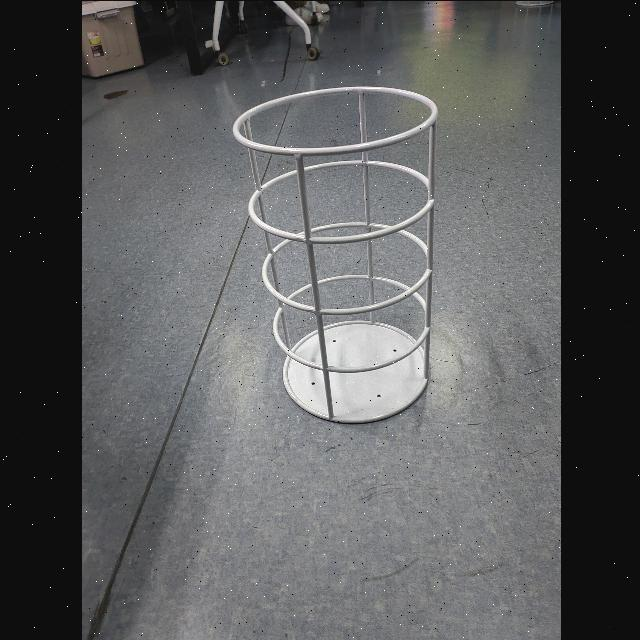S: (230, 78, 450, 432)
